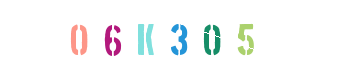3: (130, 0, 210, 80)
5: (172, 0, 252, 80)
6: (114, 0, 194, 80)
K: (116, 0, 196, 80)
O: (72, 0, 152, 80), (140, 0, 220, 80)
